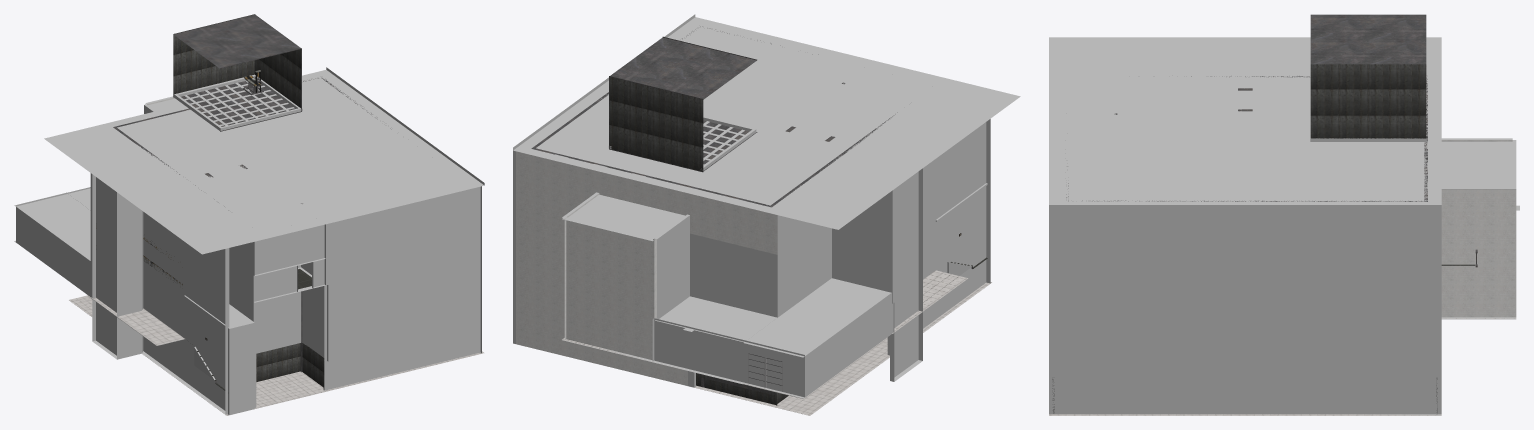
The model's file is HC_cont1_106.obj.
3 renders of one model, left to right at view 1: azimuth 30°, elevation 25°; view 2: azimuth 150°, elevation 25°; view 3: azimuth 270°, elevation 25°, orthographic. The views are drawn at different scales.
Parts seen in each view (by area): view 1: room106_opt; view 2: room106_opt; view 3: room106_opt.
Boxes of the visible parts, left/top/right/bottom form: room106_opt: left=14, top=14, right=484, bottom=415; room106_opt: left=513, top=14, right=1020, bottom=415; room106_opt: left=1049, top=14, right=1519, bottom=415.
Bounding box in the file's own units: 35.6 × 29.84 × 41.44.
